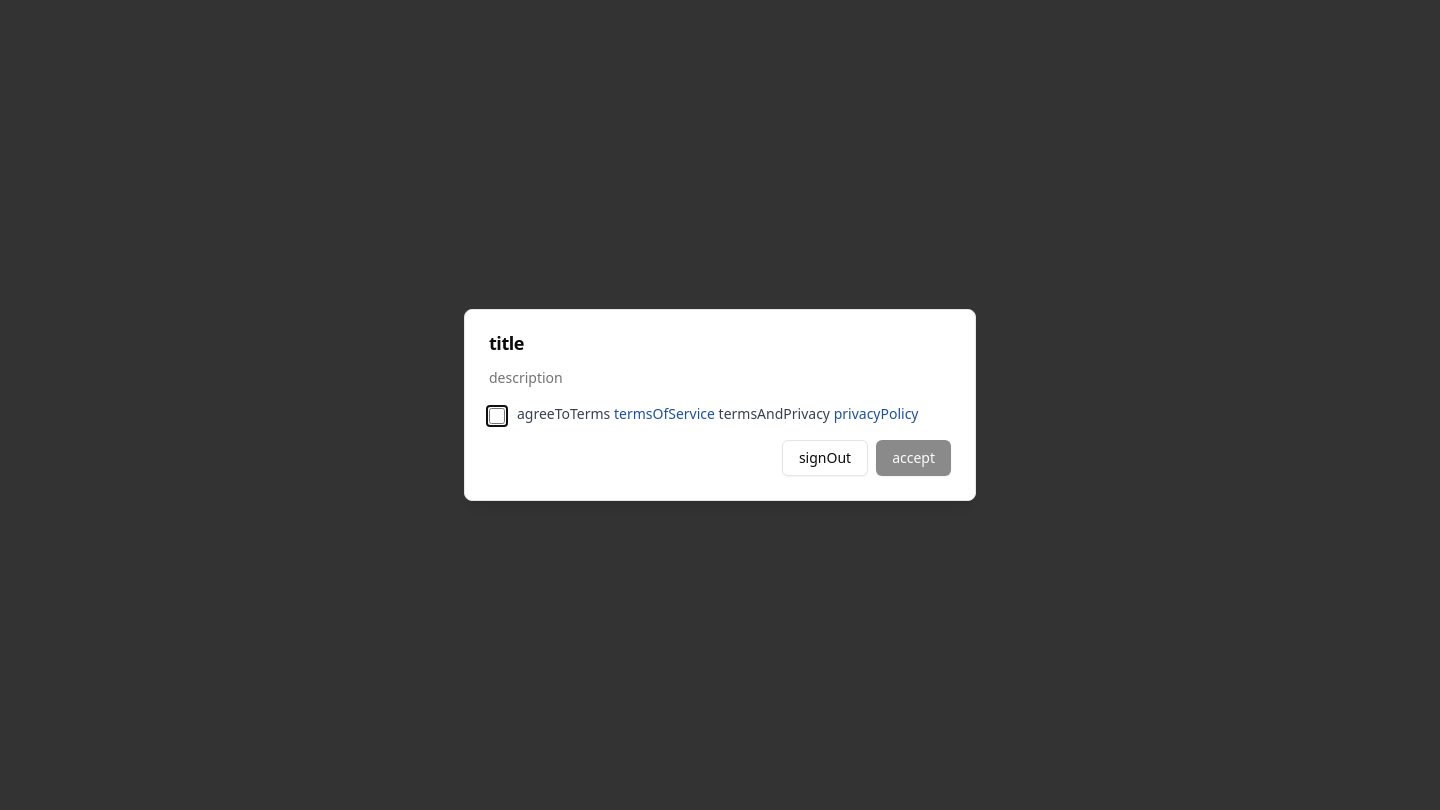
Scenario: TermsReacceptanceDialog › reports any other failure and lets the user retry
The width and height of the screenshot is (1440, 810).
Step 1. Click the checkbox labelled "agreeToTerms termsOfService termsAndPrivacy privacyPolicy" → [497, 416], box x1=489 y1=408 x2=505 y2=424
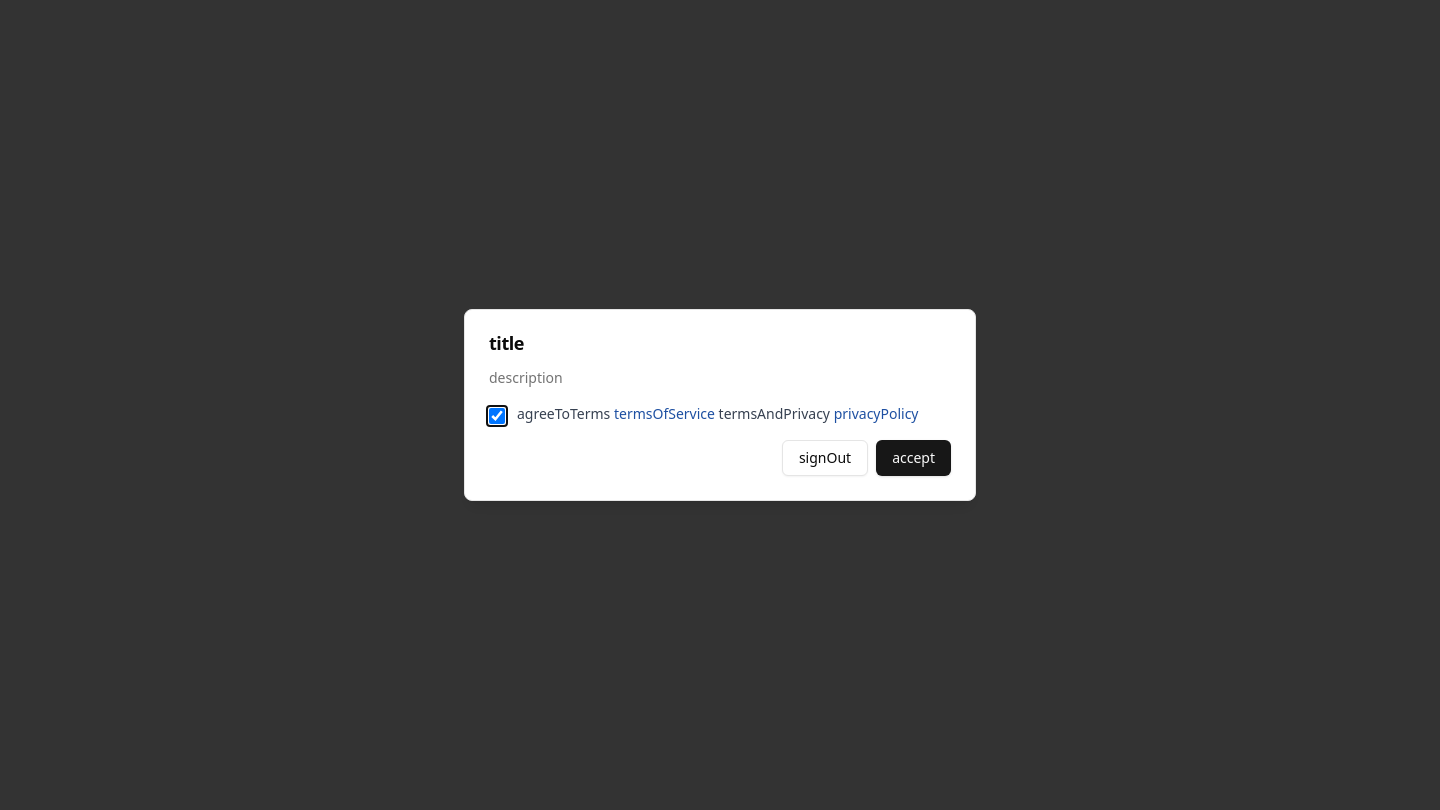
Step 2. Click the button "accept" → [914, 458], box x1=876 y1=440 x2=951 y2=476
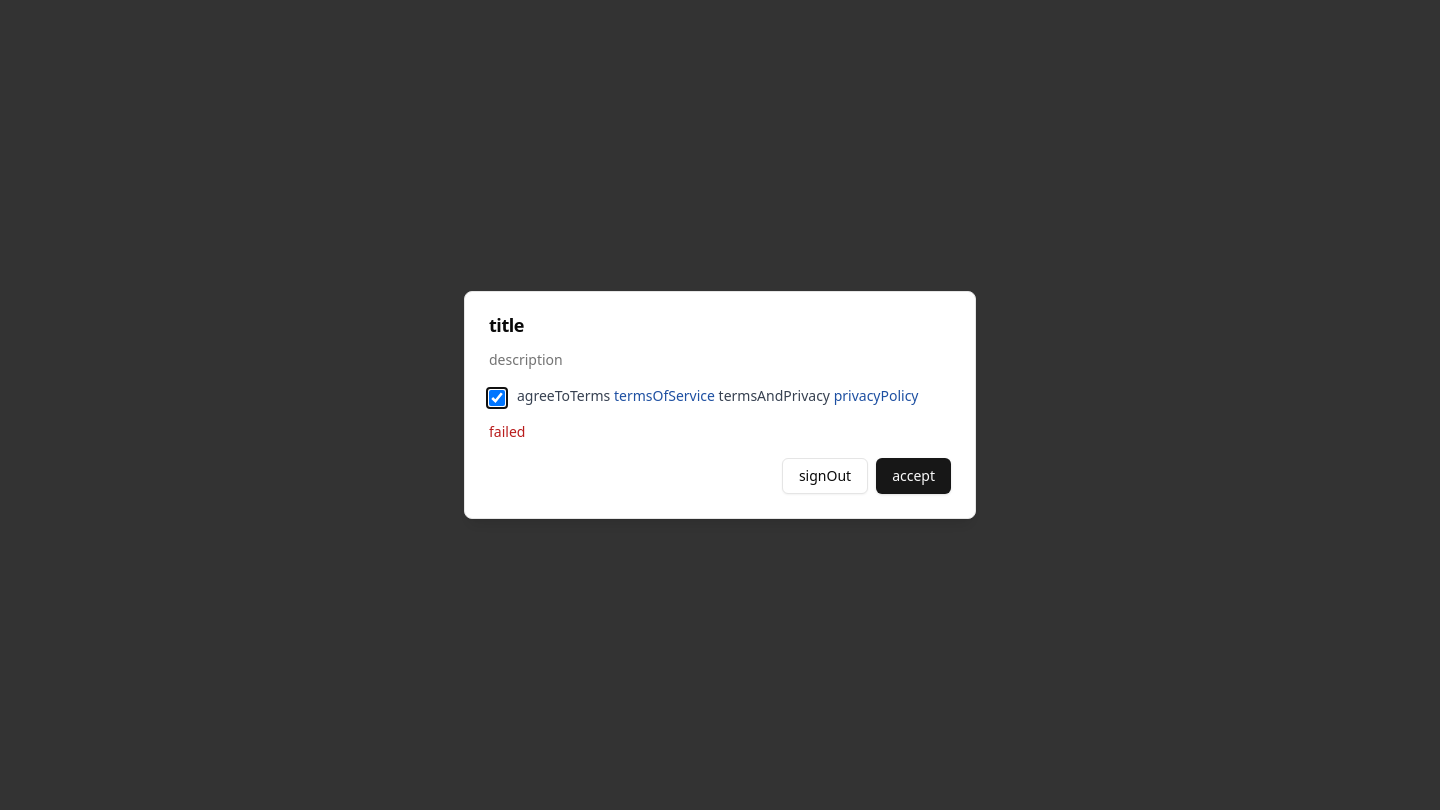
Check: the button "accept" is enabled, box x1=876 y1=458 x2=951 y2=494
Check: the message reads "failed", box x1=489 y1=422 x2=525 y2=441
